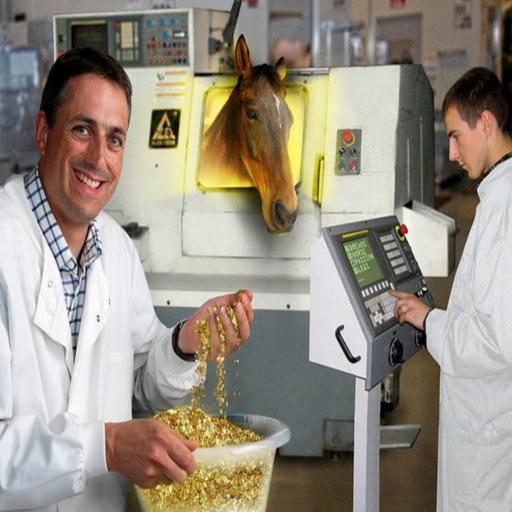horse: (200, 32, 300, 236)
